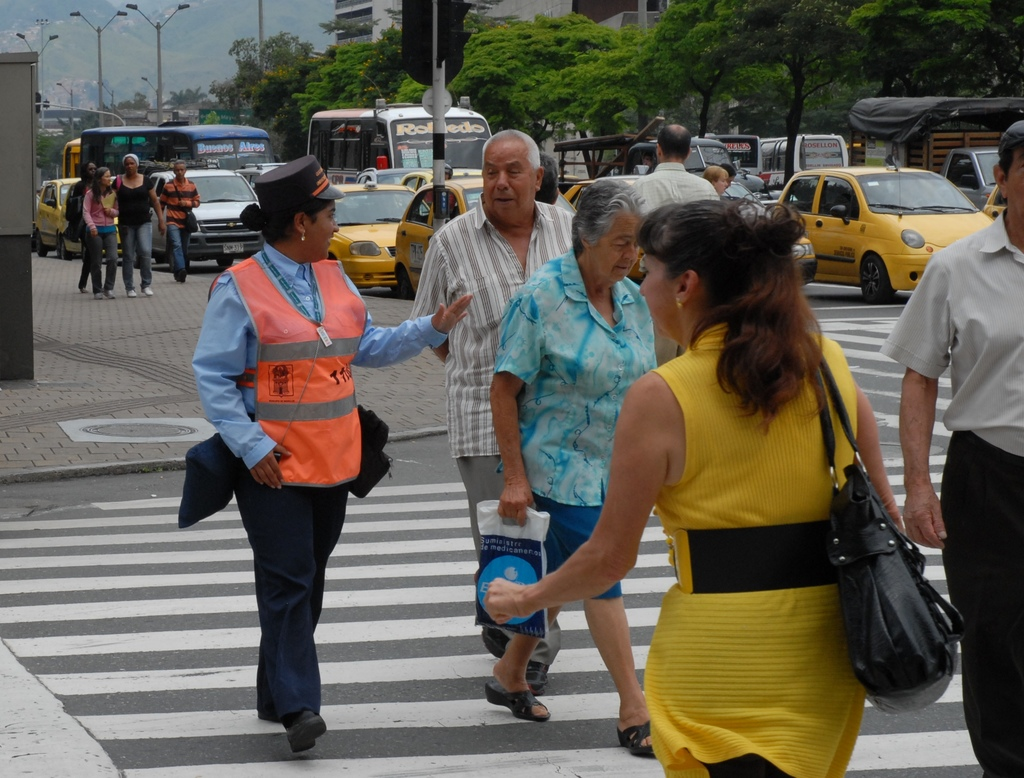Car: (776, 156, 992, 302), (389, 169, 582, 310), (312, 173, 435, 303), (144, 165, 264, 269), (33, 171, 123, 260)
